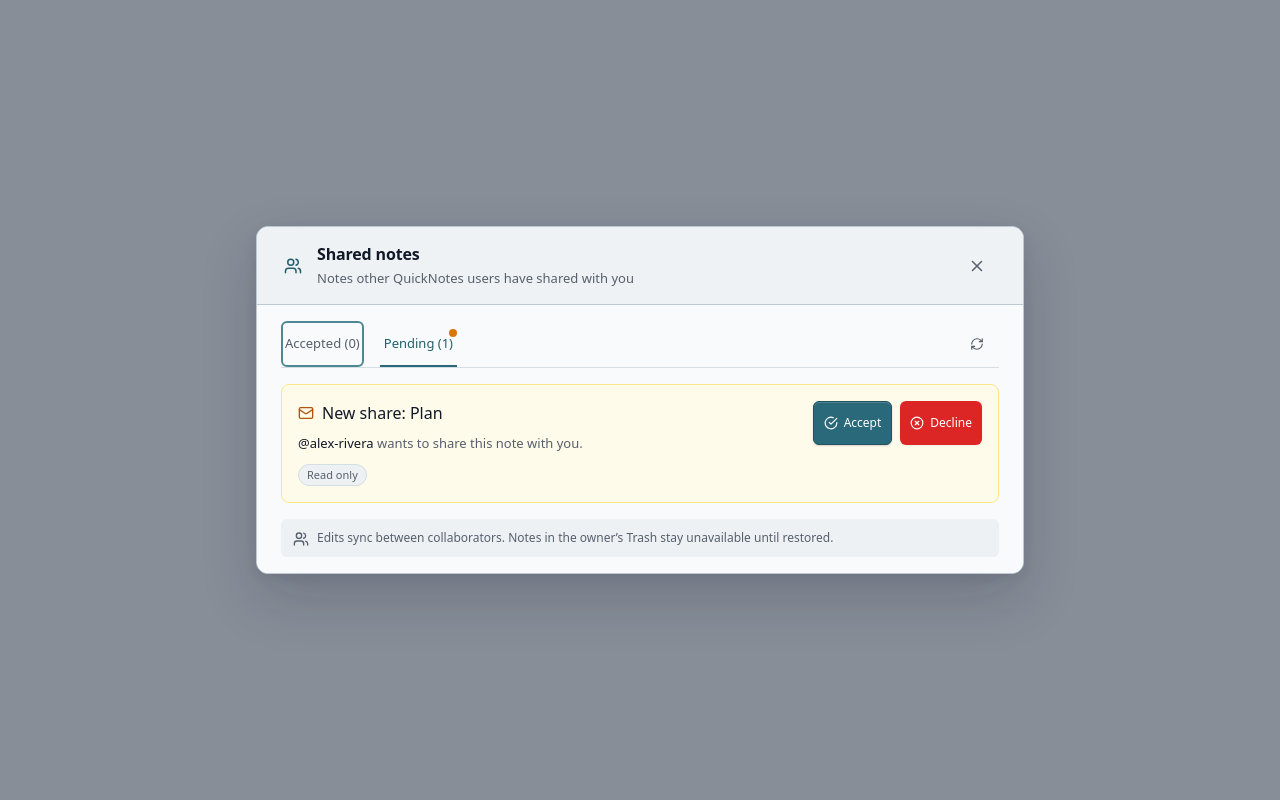
Test: shared notes › prevents duplicate accepts and presents a failed invitation action
The width and height of the screenshot is (1280, 800).
Click the tab "Pending (1)": (418, 344) 380,321 -> 457,367
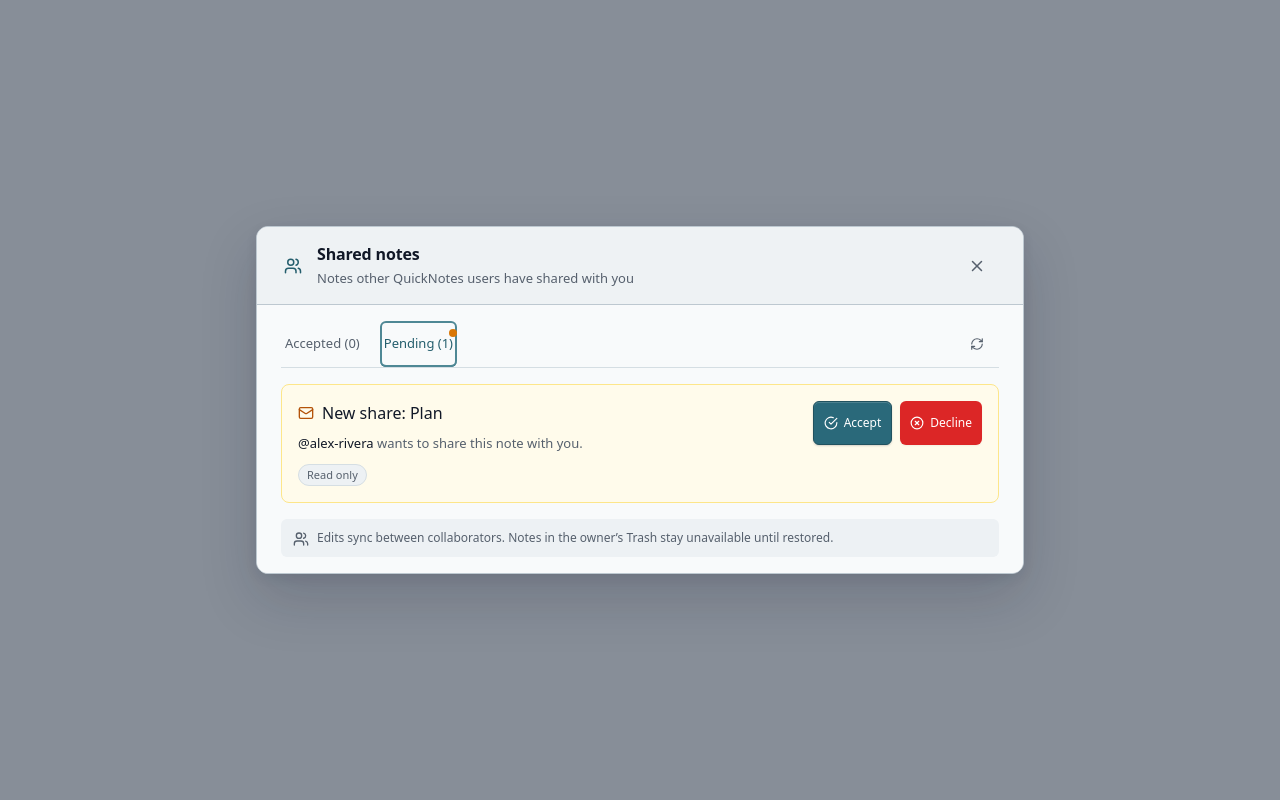
Click the button "Accept": (853, 423) 813,401 -> 892,445
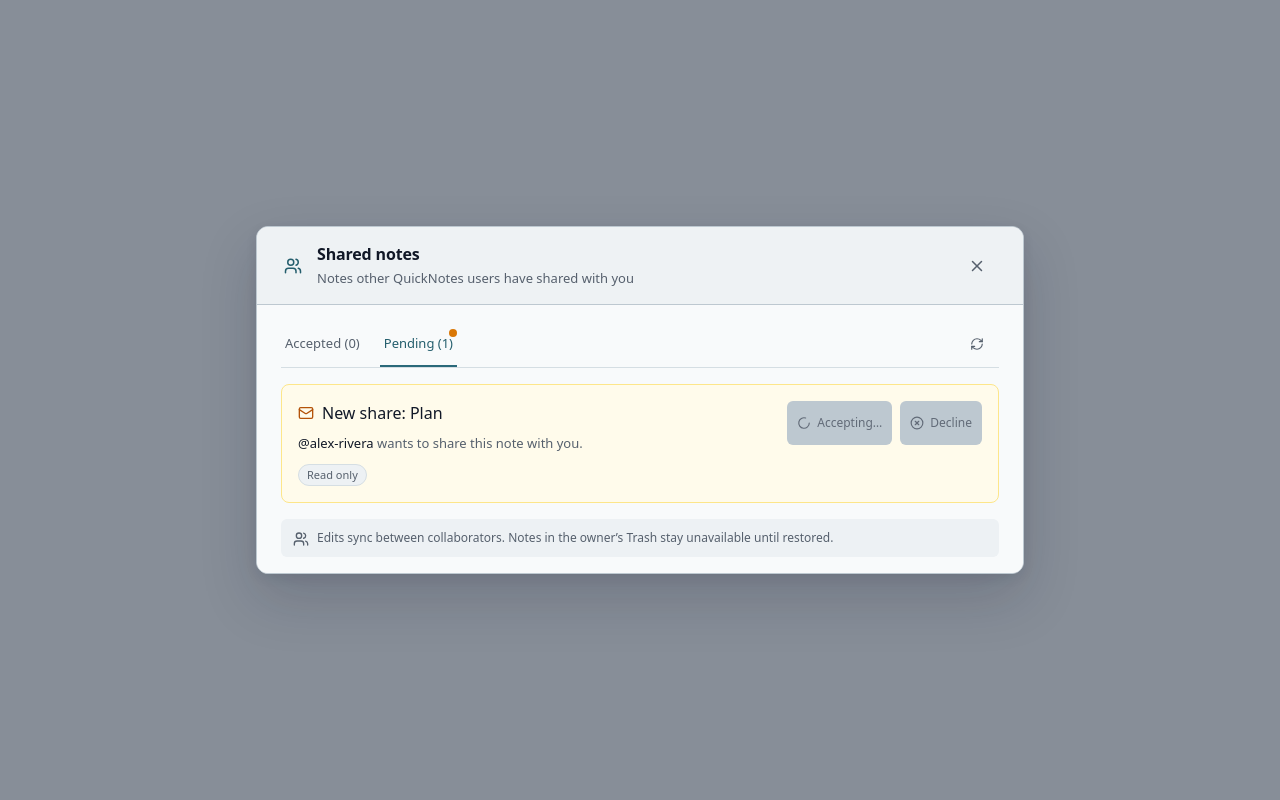
Now the button "Accepting…" is disabled
Click the button "Accepting…": (840, 423) 787,401 -> 892,445
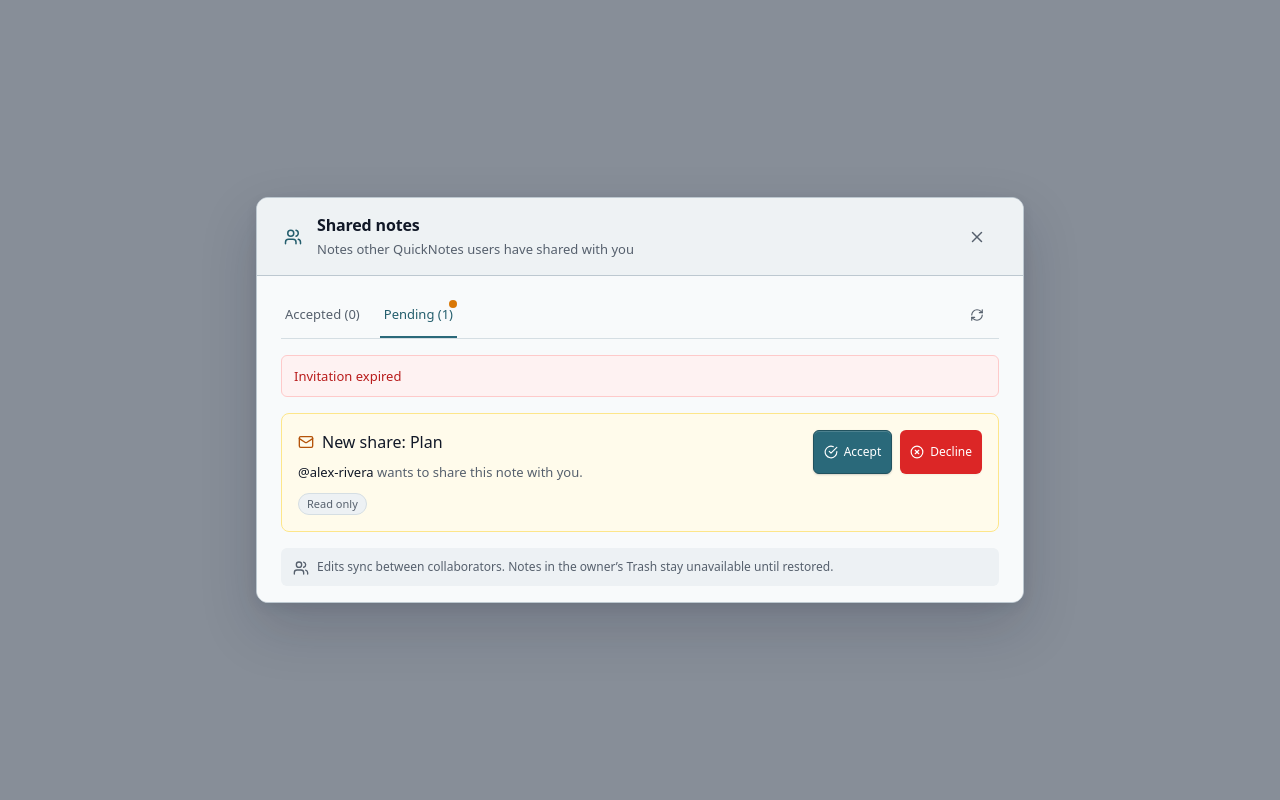
Now the message reads "Invitation expired", box 294,367 -> 402,385
Now the button "Accept" is enabled, box 813,430 -> 892,474
